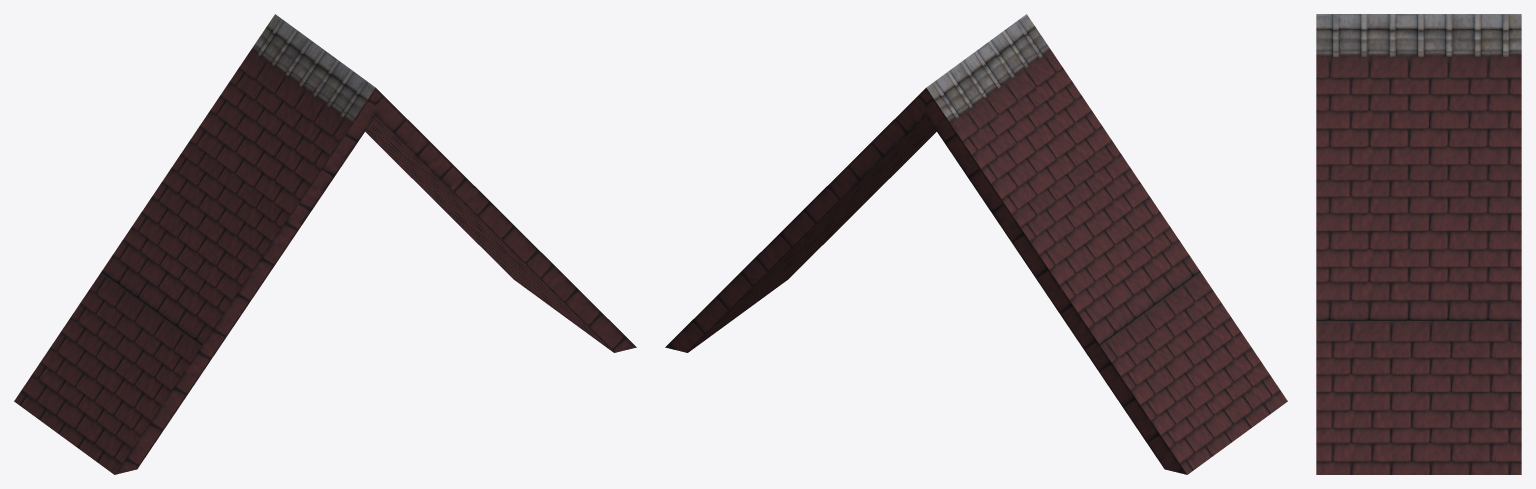
The model's file is rooftop_01.glb.
3 renders of one model, left to right at view 1: azimuth 30°, elevation 25°; view 2: azimuth 150°, elevation 25°; view 3: azimuth 270°, elevation 25°, orthographic. The views are drawn at different scales.
Parts seen in each view (by area): view 1: rooftop_01; view 2: rooftop_01; view 3: rooftop_01.
Part boxes in pixels (x1,y1,x2,y2): rooftop_01: [14, 14, 636, 474]; rooftop_01: [665, 14, 1287, 474]; rooftop_01: [1316, 14, 1521, 474].
Bounding box in the file's own units: 24 × 14.21 × 8.
1 material, 1 textured.
